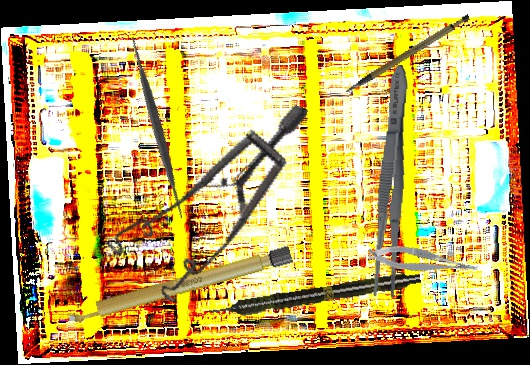Dressing Forceps: (368, 64, 416, 299)
Handpiece: (207, 268, 422, 322)
Micro Scissor: (366, 236, 480, 288)
Scalpel Handle: (64, 244, 294, 327), (336, 12, 478, 94)
Spatula Surgical: (57, 29, 257, 227)
Speculum: (97, 64, 309, 324)
